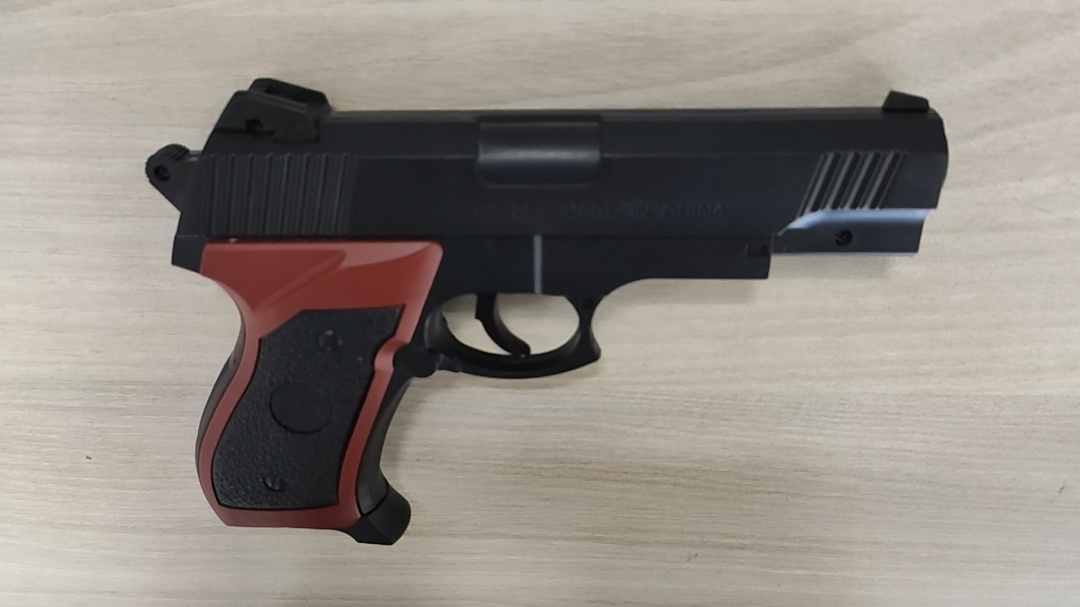gun: (137, 74, 956, 558)
